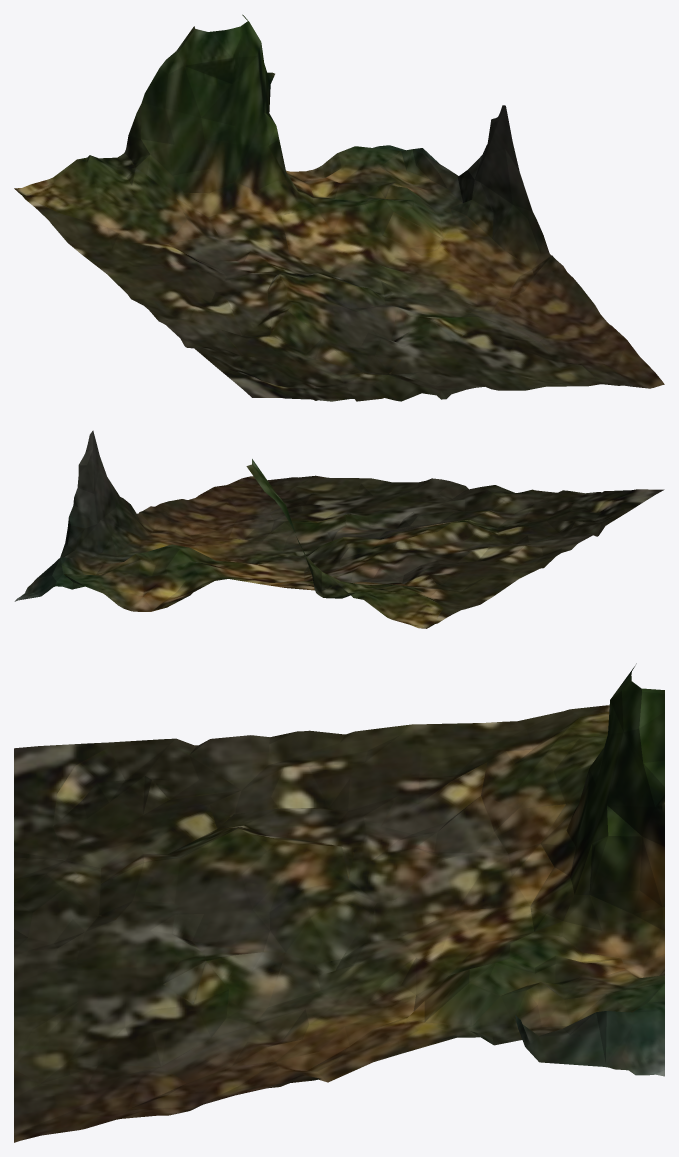
3 renders of one model, top to bottom at view 1: azimuth 30°, elevation 25°; view 2: azimuth 150°, elevation 25°; view 3: azimuth 270°, elevation 25°, orthographic. The views are drawn at different scales.
Bounding box in the file's own units: 1.67 × 0.9365 × 1.67.
Materials: 3 (3 with a texture image).
